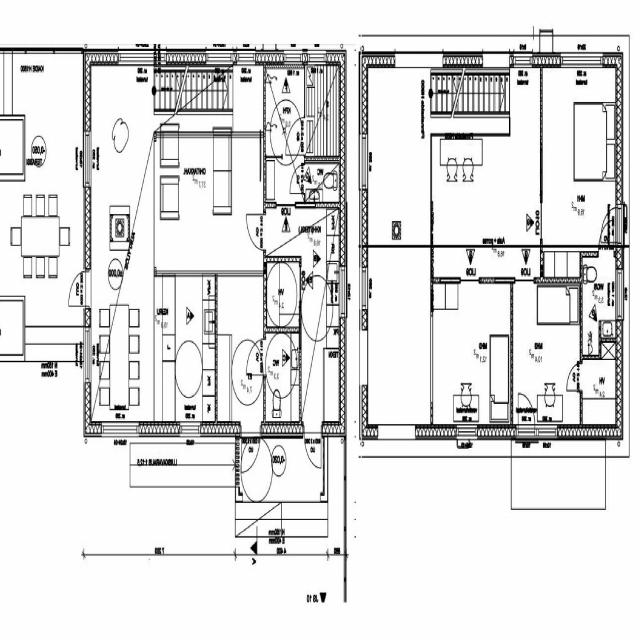door: (241, 432, 260, 477), (68, 271, 90, 306), (286, 118, 306, 154), (246, 215, 266, 250), (246, 339, 266, 374), (304, 432, 321, 472), (598, 224, 614, 260), (566, 368, 582, 396), (290, 165, 306, 192)
